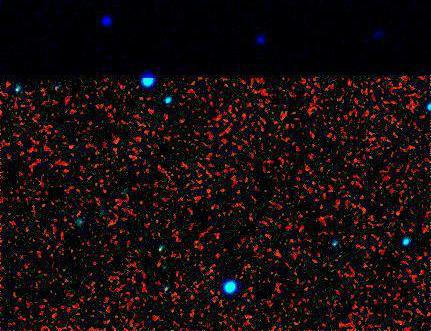star: (312, 248, 342, 278)
